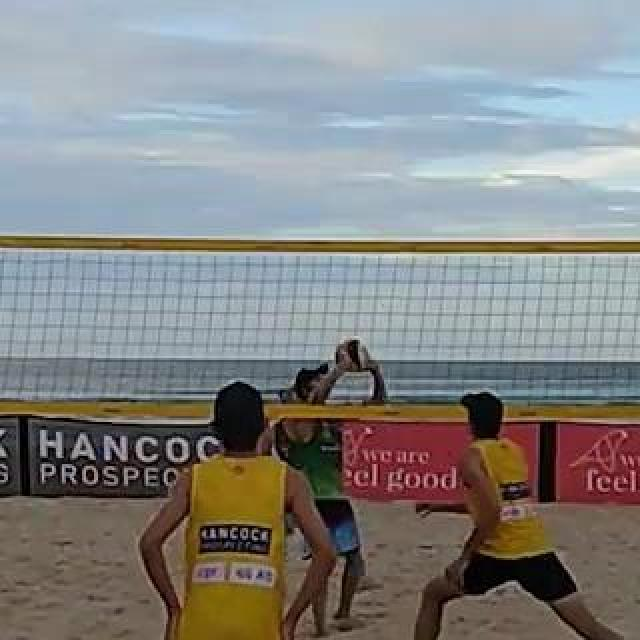volleyball: (337, 337, 371, 373)
